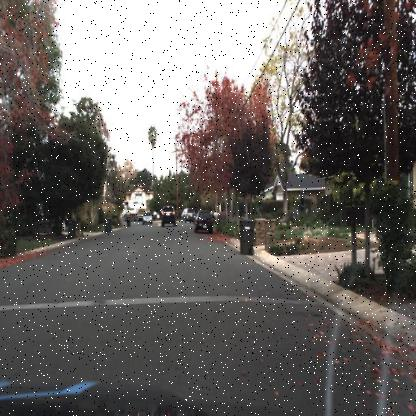car: (192, 209, 213, 233), (158, 203, 178, 228), (182, 208, 195, 223), (142, 211, 152, 225)
